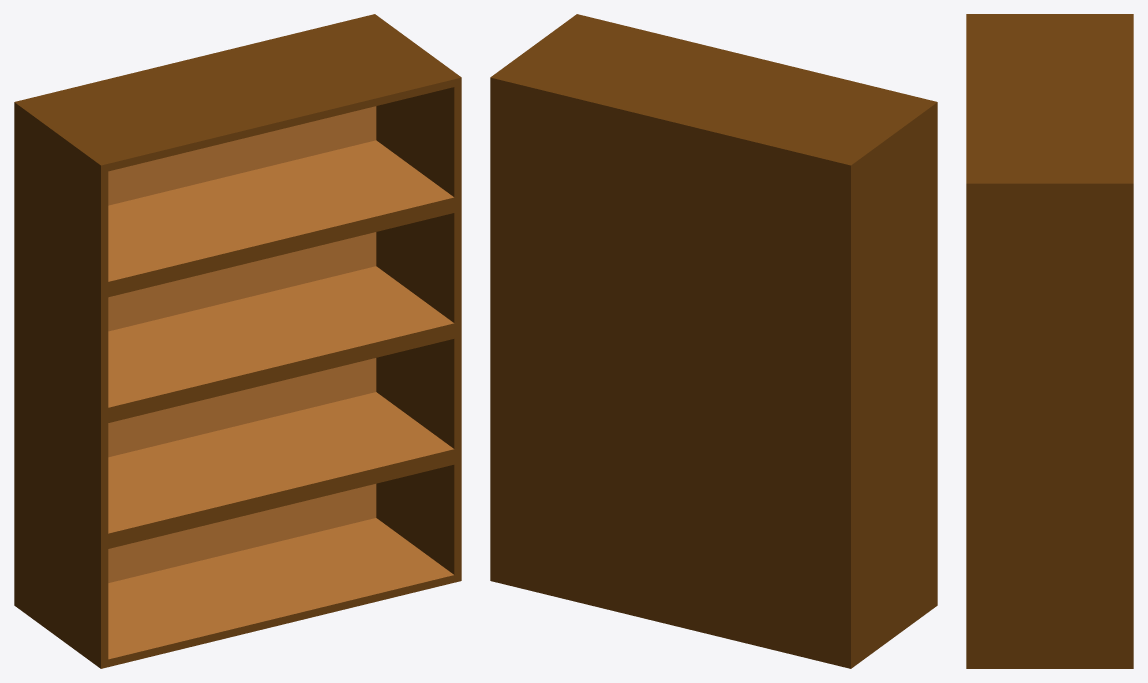
The model's file is BookShelf.fbx.
The picture shows the model from 3 angles, left to right: view 1: azimuth 30°, elevation 25°; view 2: azimuth 150°, elevation 25°; view 3: azimuth 270°, elevation 25°; orthographic projection. The views are drawn at different scales.
Visible parts, largest first — view 1: BookShelf; view 2: BookShelf; view 3: BookShelf.
Part boxes in pixels (left/top/right/bottom): BookShelf: left=14, top=14, right=461, bottom=668; BookShelf: left=490, top=14, right=937, bottom=668; BookShelf: left=966, top=14, right=1133, bottom=668.
Bounding box in the file's own units: 120 × 160 × 50.
Materials: 1 (1 with a texture image).
